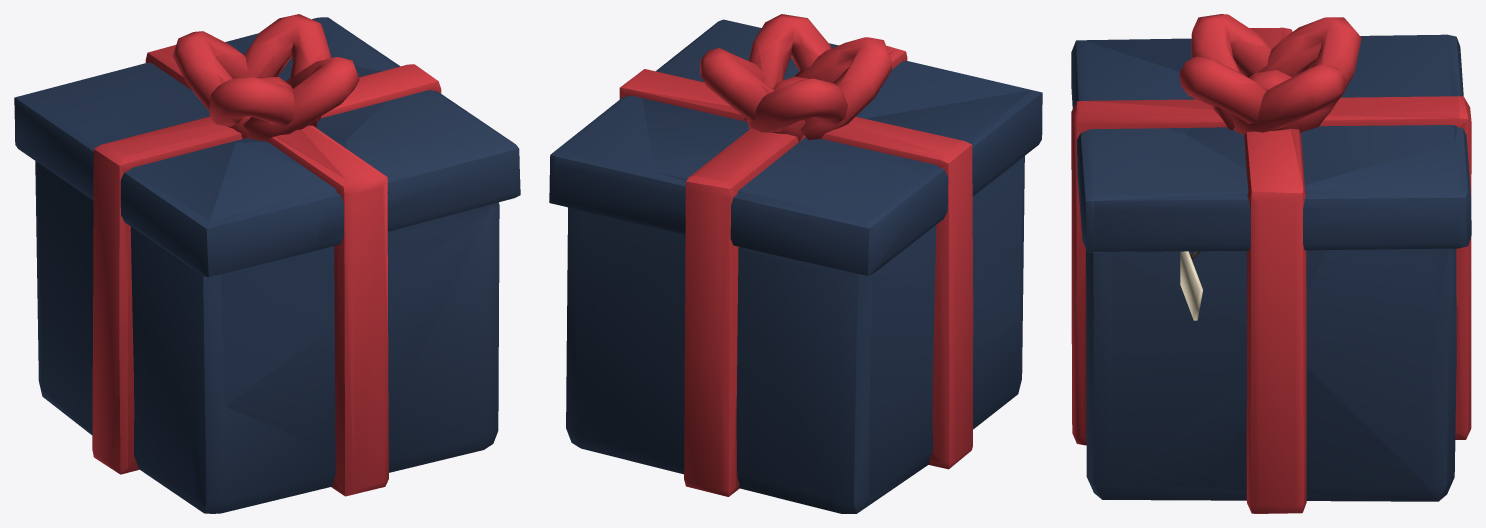
Rendered from frost_gift_box_lod2.glb.
The picture shows the model from 3 angles, left to right: view 1: azimuth 30°, elevation 25°; view 2: azimuth 150°, elevation 25°; view 3: azimuth 270°, elevation 25°; orthographic projection. The views are drawn at different scales.
Visible parts, largest first — view 1: frost_gift_box.001; view 2: frost_gift_box.001; view 3: frost_gift_box.001.
Part boxes in pixels (box(x1,y1,x2,y2)): frost_gift_box.001: box(14, 14, 520, 513); frost_gift_box.001: box(549, 14, 1042, 513); frost_gift_box.001: box(1071, 14, 1471, 513).
Bounding box in the file's own units: 8.09 × 8 × 7.3.
